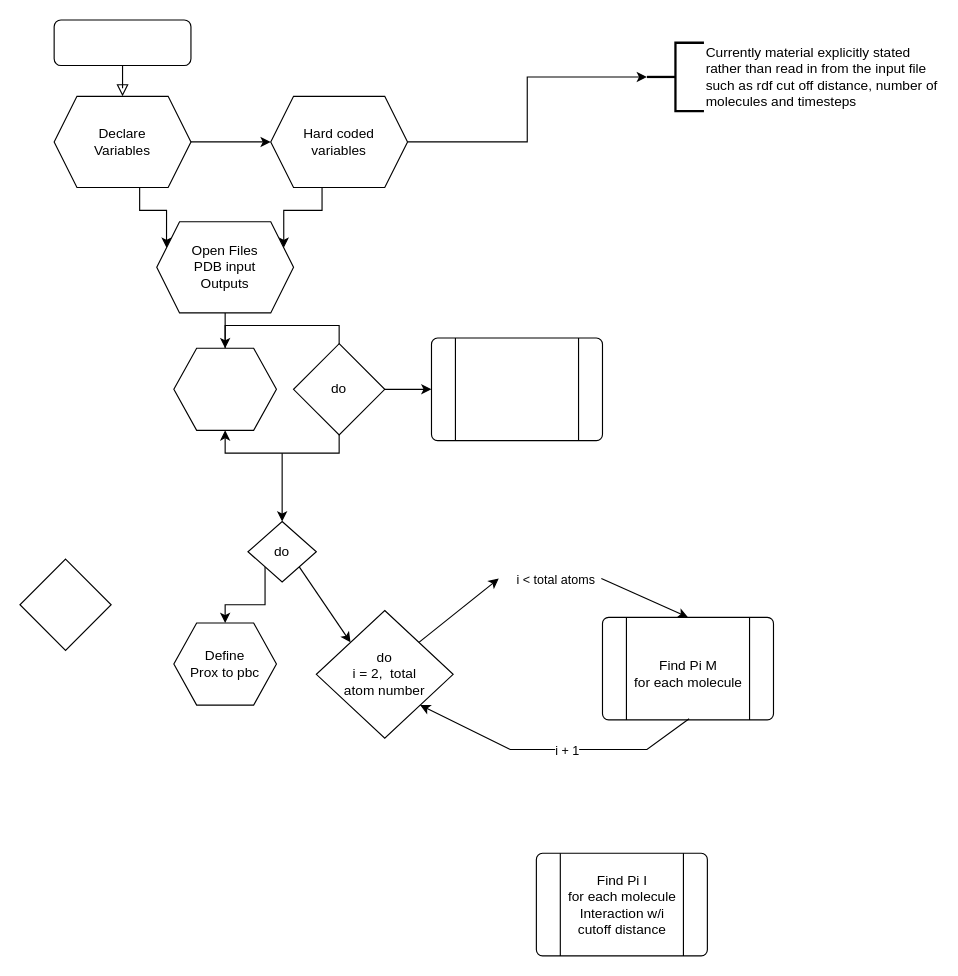
The diagram is 958 pixels wide and 976 high, and some of its shapes have lost their labels. The box of each missing label's shape, as (x1, y1, x2, y2) in pixels:
initializing inputs at = 0: (173, 347, 276, 430)
Program OKE Polarization: (53, 19, 191, 66)
Read in PDB input file: (430, 337, 602, 441)
t = 0, timesteps: (19, 558, 111, 650)
